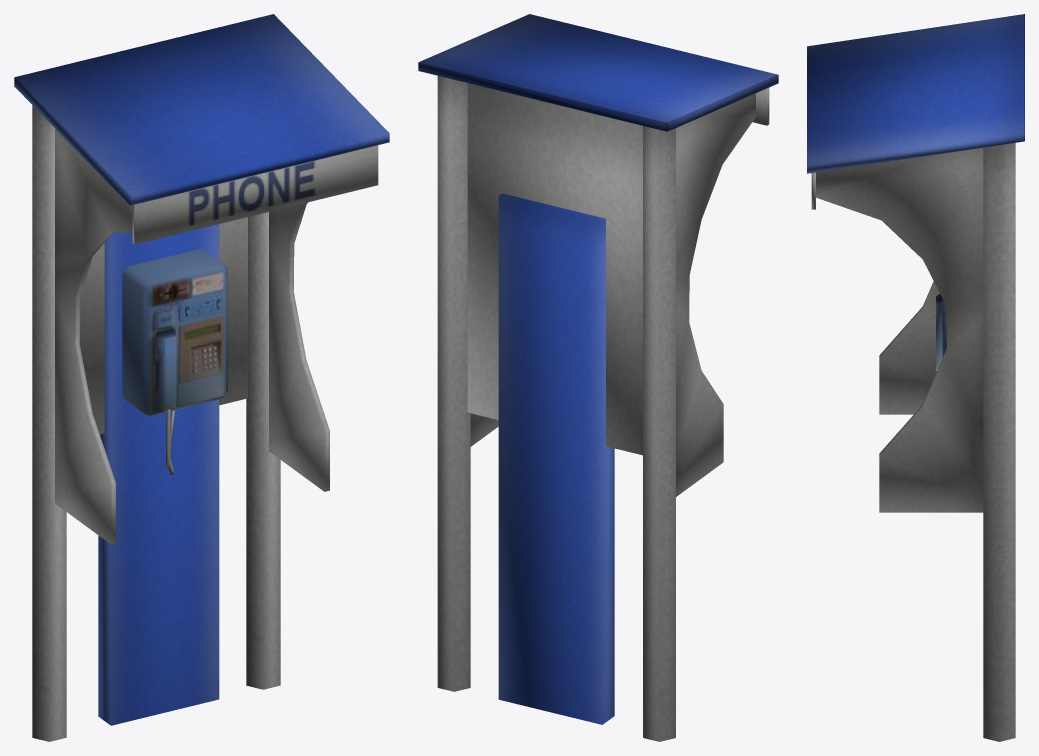
File: telPublico.obj
3 views of the same model, side by side, from view 1: azimuth 30°, elevation 25°; view 2: azimuth 150°, elevation 25°; view 3: azimuth 270°, elevation 25° (orthographic). The views are drawn at different scales.
Parts seen in each view (by area): view 1: tlf02; view 2: tlf02; view 3: tlf02.
Boxes of the visible parts, left/top/right/bottom form: tlf02: left=14, top=14, right=389, bottom=741; tlf02: left=418, top=14, right=778, bottom=741; tlf02: left=807, top=14, right=1024, bottom=741.
Size of the model in its own units: 0.9231 by 2.21 by 0.7145.
1 material, 1 textured.
